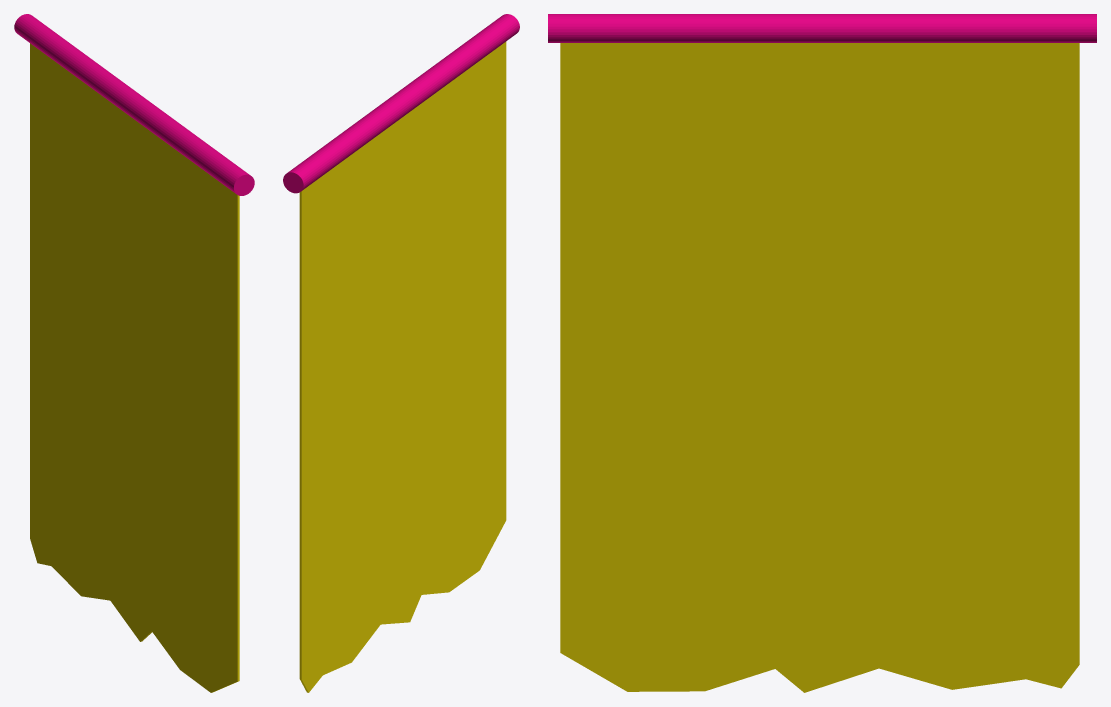
The picture shows the model from 3 angles, left to right: view 1: azimuth 30°, elevation 25°; view 2: azimuth 150°, elevation 25°; view 3: azimuth 270°, elevation 25°; orthographic projection. The views are drawn at different scales.
Parts seen in each view (by area): view 1: Plane, Curtain; view 2: Plane, Curtain; view 3: Plane, Curtain.
Part boxes in pixels (x1,y1,x2,y2): Plane: [30, 43, 239, 692]; Curtain: [14, 14, 254, 195]; Plane: [299, 41, 506, 692]; Curtain: [283, 14, 519, 193]; Plane: [560, 43, 1079, 692]; Curtain: [548, 14, 1096, 42].
Bounding box in the file's own units: 15.57 × 385 × 283.
